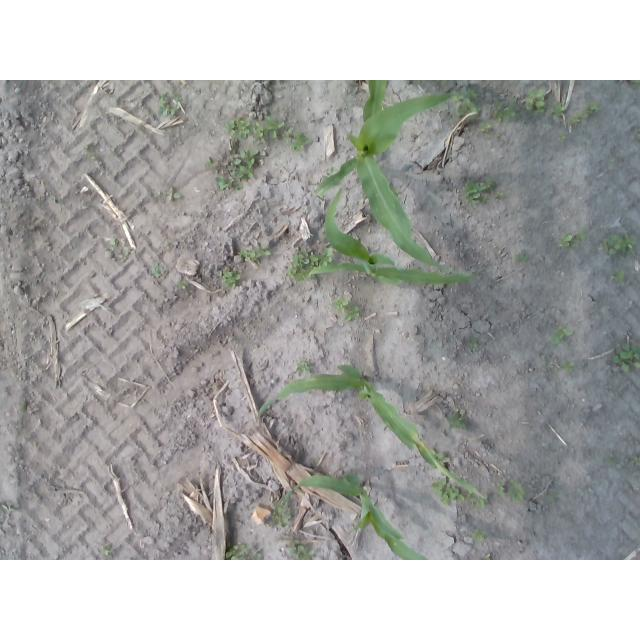Maize: (259, 365, 487, 499), (315, 82, 454, 270), (307, 186, 472, 283), (284, 476, 430, 561)
Weeds: (207, 150, 261, 191), (231, 119, 284, 139), (612, 343, 640, 373), (603, 235, 636, 257), (271, 494, 293, 527), (524, 89, 549, 116), (291, 249, 312, 281), (457, 88, 479, 117), (572, 103, 599, 125), (290, 539, 317, 559), (466, 180, 493, 199), (238, 247, 270, 262), (284, 130, 308, 150), (500, 483, 525, 502), (492, 103, 516, 121), (159, 95, 178, 117), (435, 484, 458, 501), (551, 328, 574, 345), (446, 412, 467, 429), (311, 249, 334, 264), (221, 270, 241, 287), (560, 234, 582, 247), (226, 544, 241, 560), (346, 307, 361, 322), (296, 361, 309, 376), (152, 263, 164, 278), (333, 298, 347, 310), (562, 360, 575, 372), (513, 252, 527, 262), (168, 188, 179, 200), (478, 121, 490, 131), (554, 103, 562, 117), (615, 271, 626, 281), (470, 338, 478, 351), (550, 489, 559, 499), (474, 531, 483, 540), (119, 253, 129, 260), (494, 191, 504, 197), (633, 456, 640, 464), (558, 135, 566, 142), (177, 281, 183, 290), (111, 238, 117, 246), (164, 243, 170, 249)
